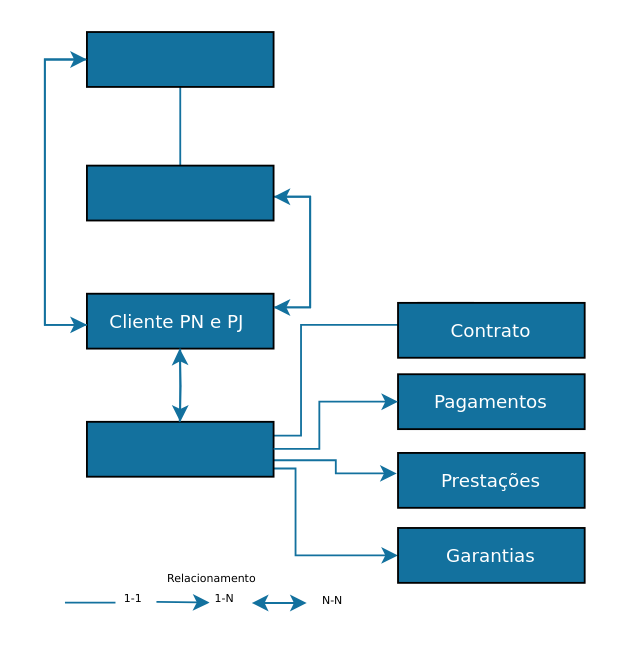
Image size: 617x651. Some labels were removed from this diagram. The centre of each missing label's shape, as x and y in pixels:
Adiantamento a depositantes: the point at 179,448
Instituição: the point at 179,192
Marca: the point at 179,58
